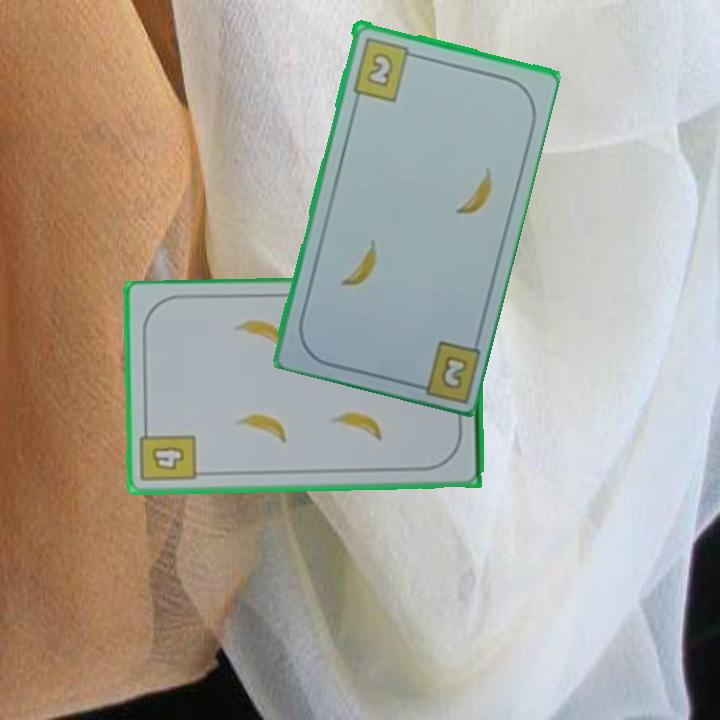2b: (348, 33, 420, 104), (440, 351, 471, 389)
4b: (137, 421, 199, 485)
